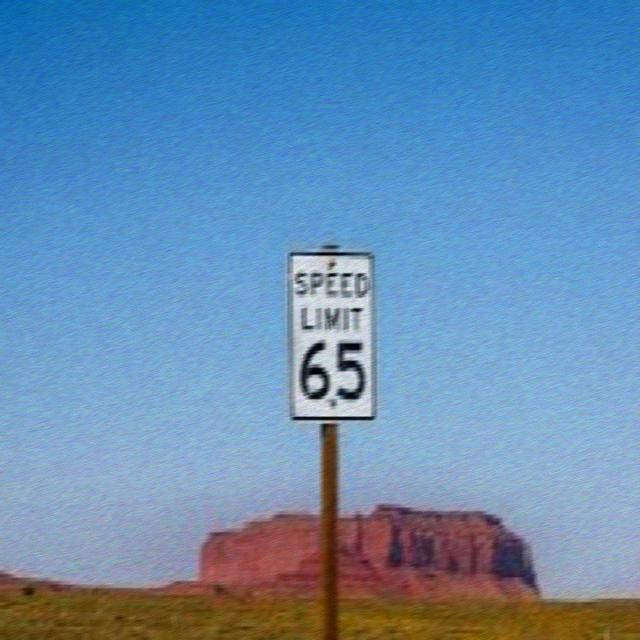speedLimit65: (282, 234, 379, 423)
